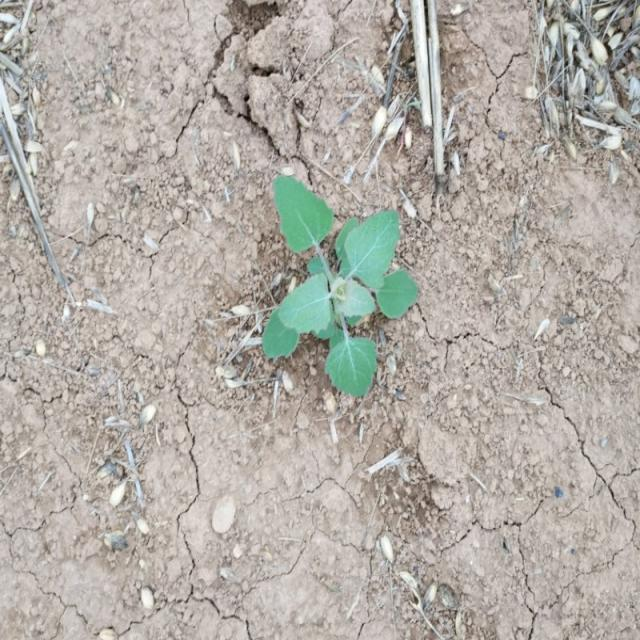goosefoots: (246, 171, 414, 382)
